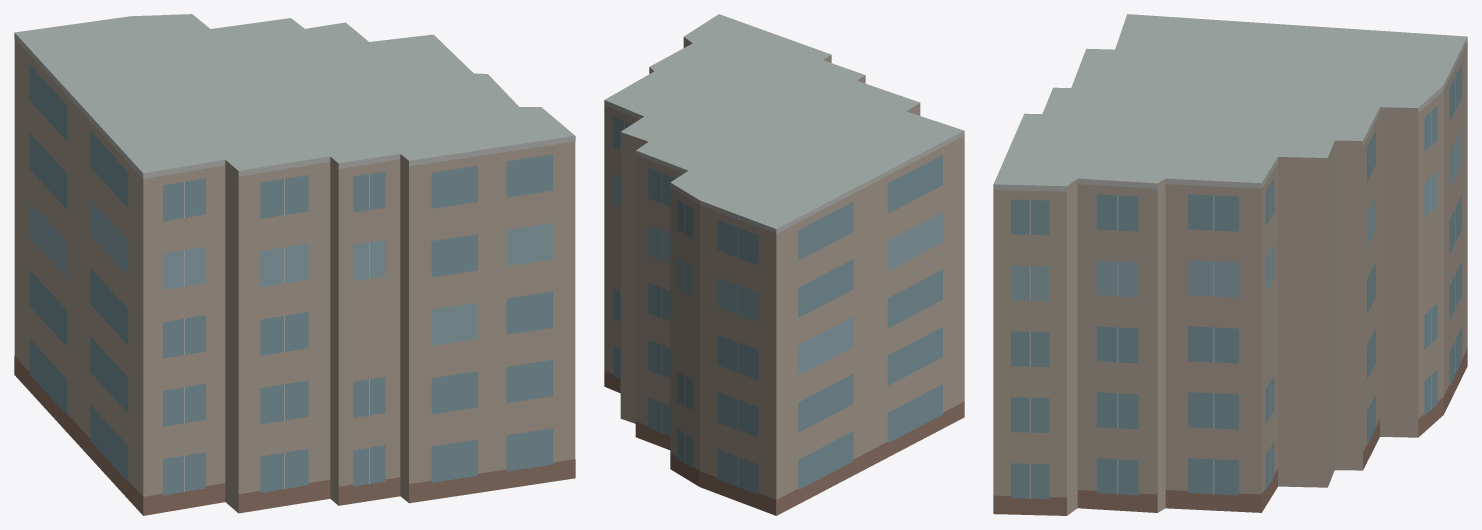
The model's file is survey-upis-32999632.glb.
3 renders of one model, left to right at view 1: azimuth 30°, elevation 25°; view 2: azimuth 150°, elevation 25°; view 3: azimuth 270°, elevation 25°, orthographic. The views are drawn at different scales.
Visible parts, largest first — view 1: survey-upis-32999632.tmp; view 2: survey-upis-32999632.tmp; view 3: survey-upis-32999632.tmp.
Part boxes in pixels (x1,y1,x2,y2): survey-upis-32999632.tmp: (14, 14, 575, 515); survey-upis-32999632.tmp: (604, 14, 964, 515); survey-upis-32999632.tmp: (993, 14, 1467, 515).
Bounding box in the file's own units: 16.56 × 14.77 × 19.26.
